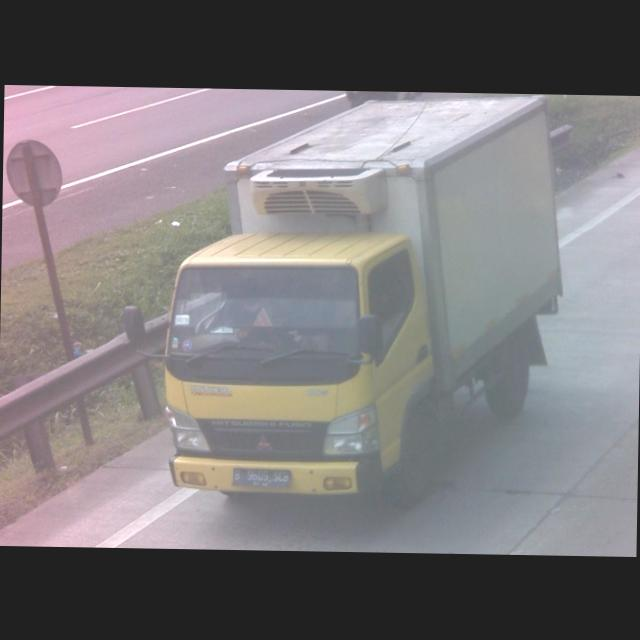plate: (230, 466, 294, 488)
